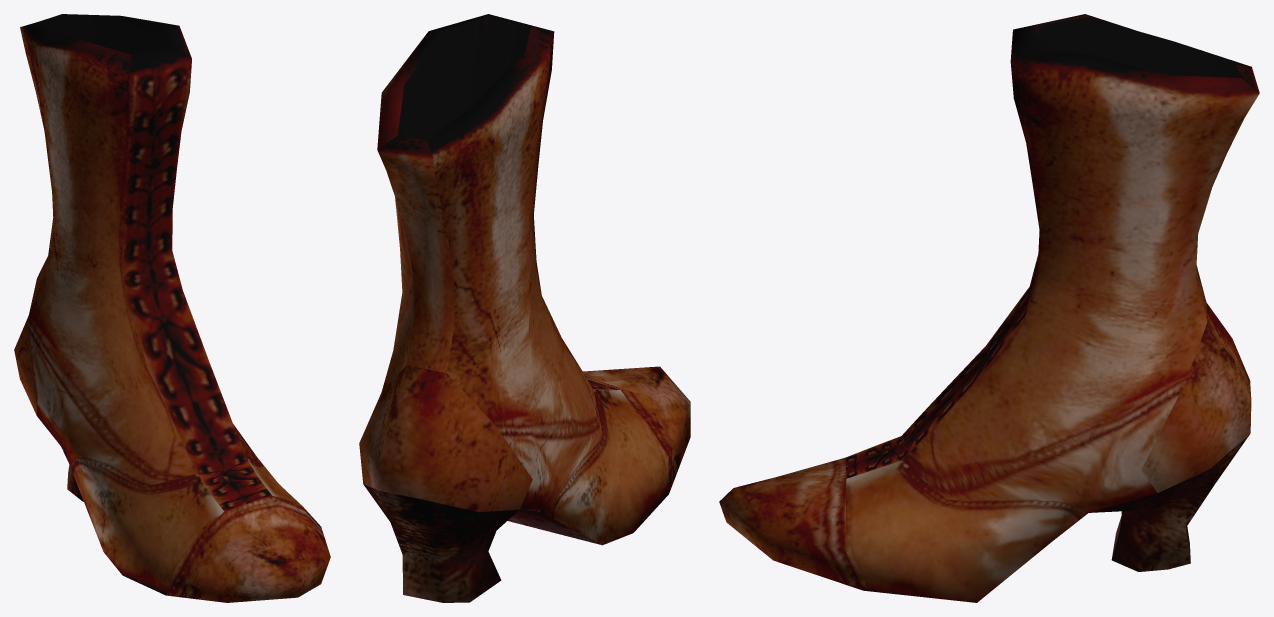
The model's file is boot_womens.glb.
3 views of the same model, side by side, from view 1: azimuth 30°, elevation 25°; view 2: azimuth 150°, elevation 25°; view 3: azimuth 270°, elevation 25° (orthographic). The views are drawn at different scales.
Parts seen in each view (by area): view 1: boot_womens; view 2: boot_womens; view 3: boot_womens.
Part boxes in pixels (bbox=[...]): boot_womens: bbox=[14, 14, 330, 602]; boot_womens: bbox=[359, 14, 690, 602]; boot_womens: bbox=[719, 14, 1259, 602].
Size of the model in its own units: 0.958 by 2.76 by 2.6.
1 material, 1 textured.
